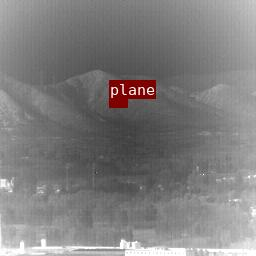plane: (109, 99, 127, 107)
